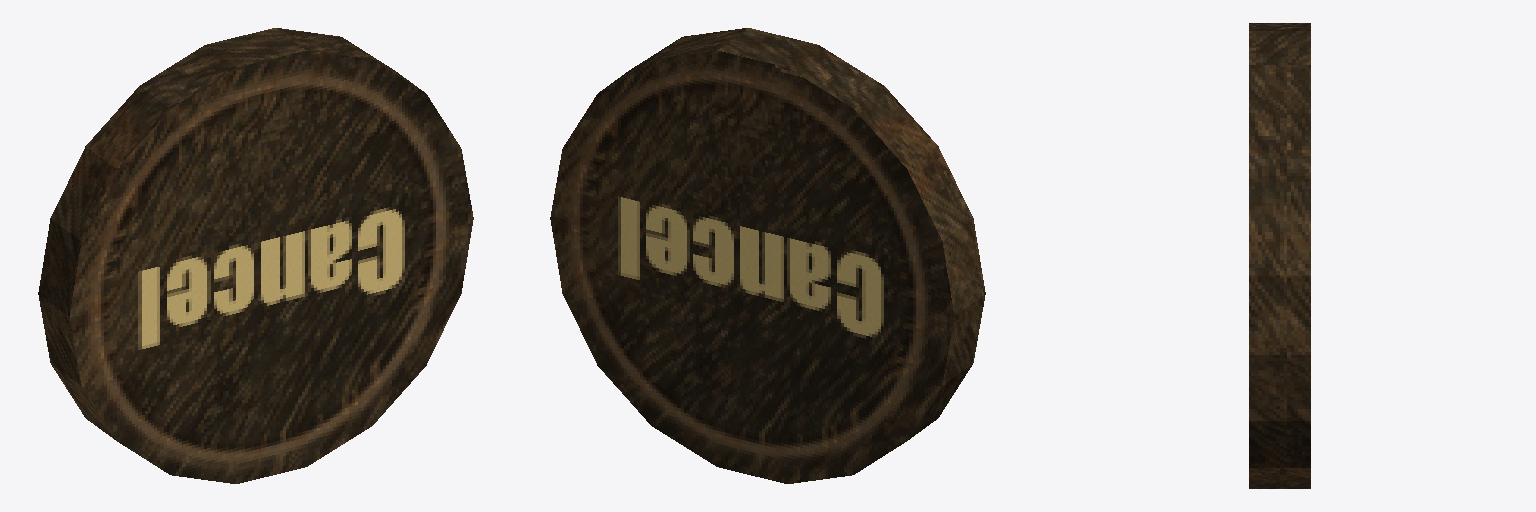
3 renders of one model, left to right at view 1: azimuth 30°, elevation 25°; view 2: azimuth 150°, elevation 25°; view 3: azimuth 270°, elevation 25°, orthographic.
Parts seen in each view (by area): view 1: Coin; view 2: Coin; view 3: Coin.
Boxes of the visible parts, <box> form: Coin: <box>38,28,473,483</box>; Coin: <box>550,28,985,483</box>; Coin: <box>1249,23,1310,488</box>.
Size of the model in its own units: 19.89 by 19.58 by 2.65.
1 materials, 1 textured.